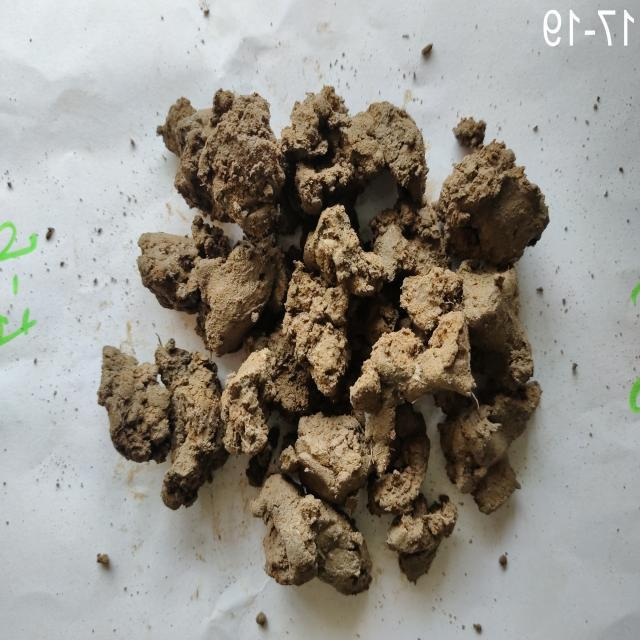soil: (242, 199, 482, 483)
